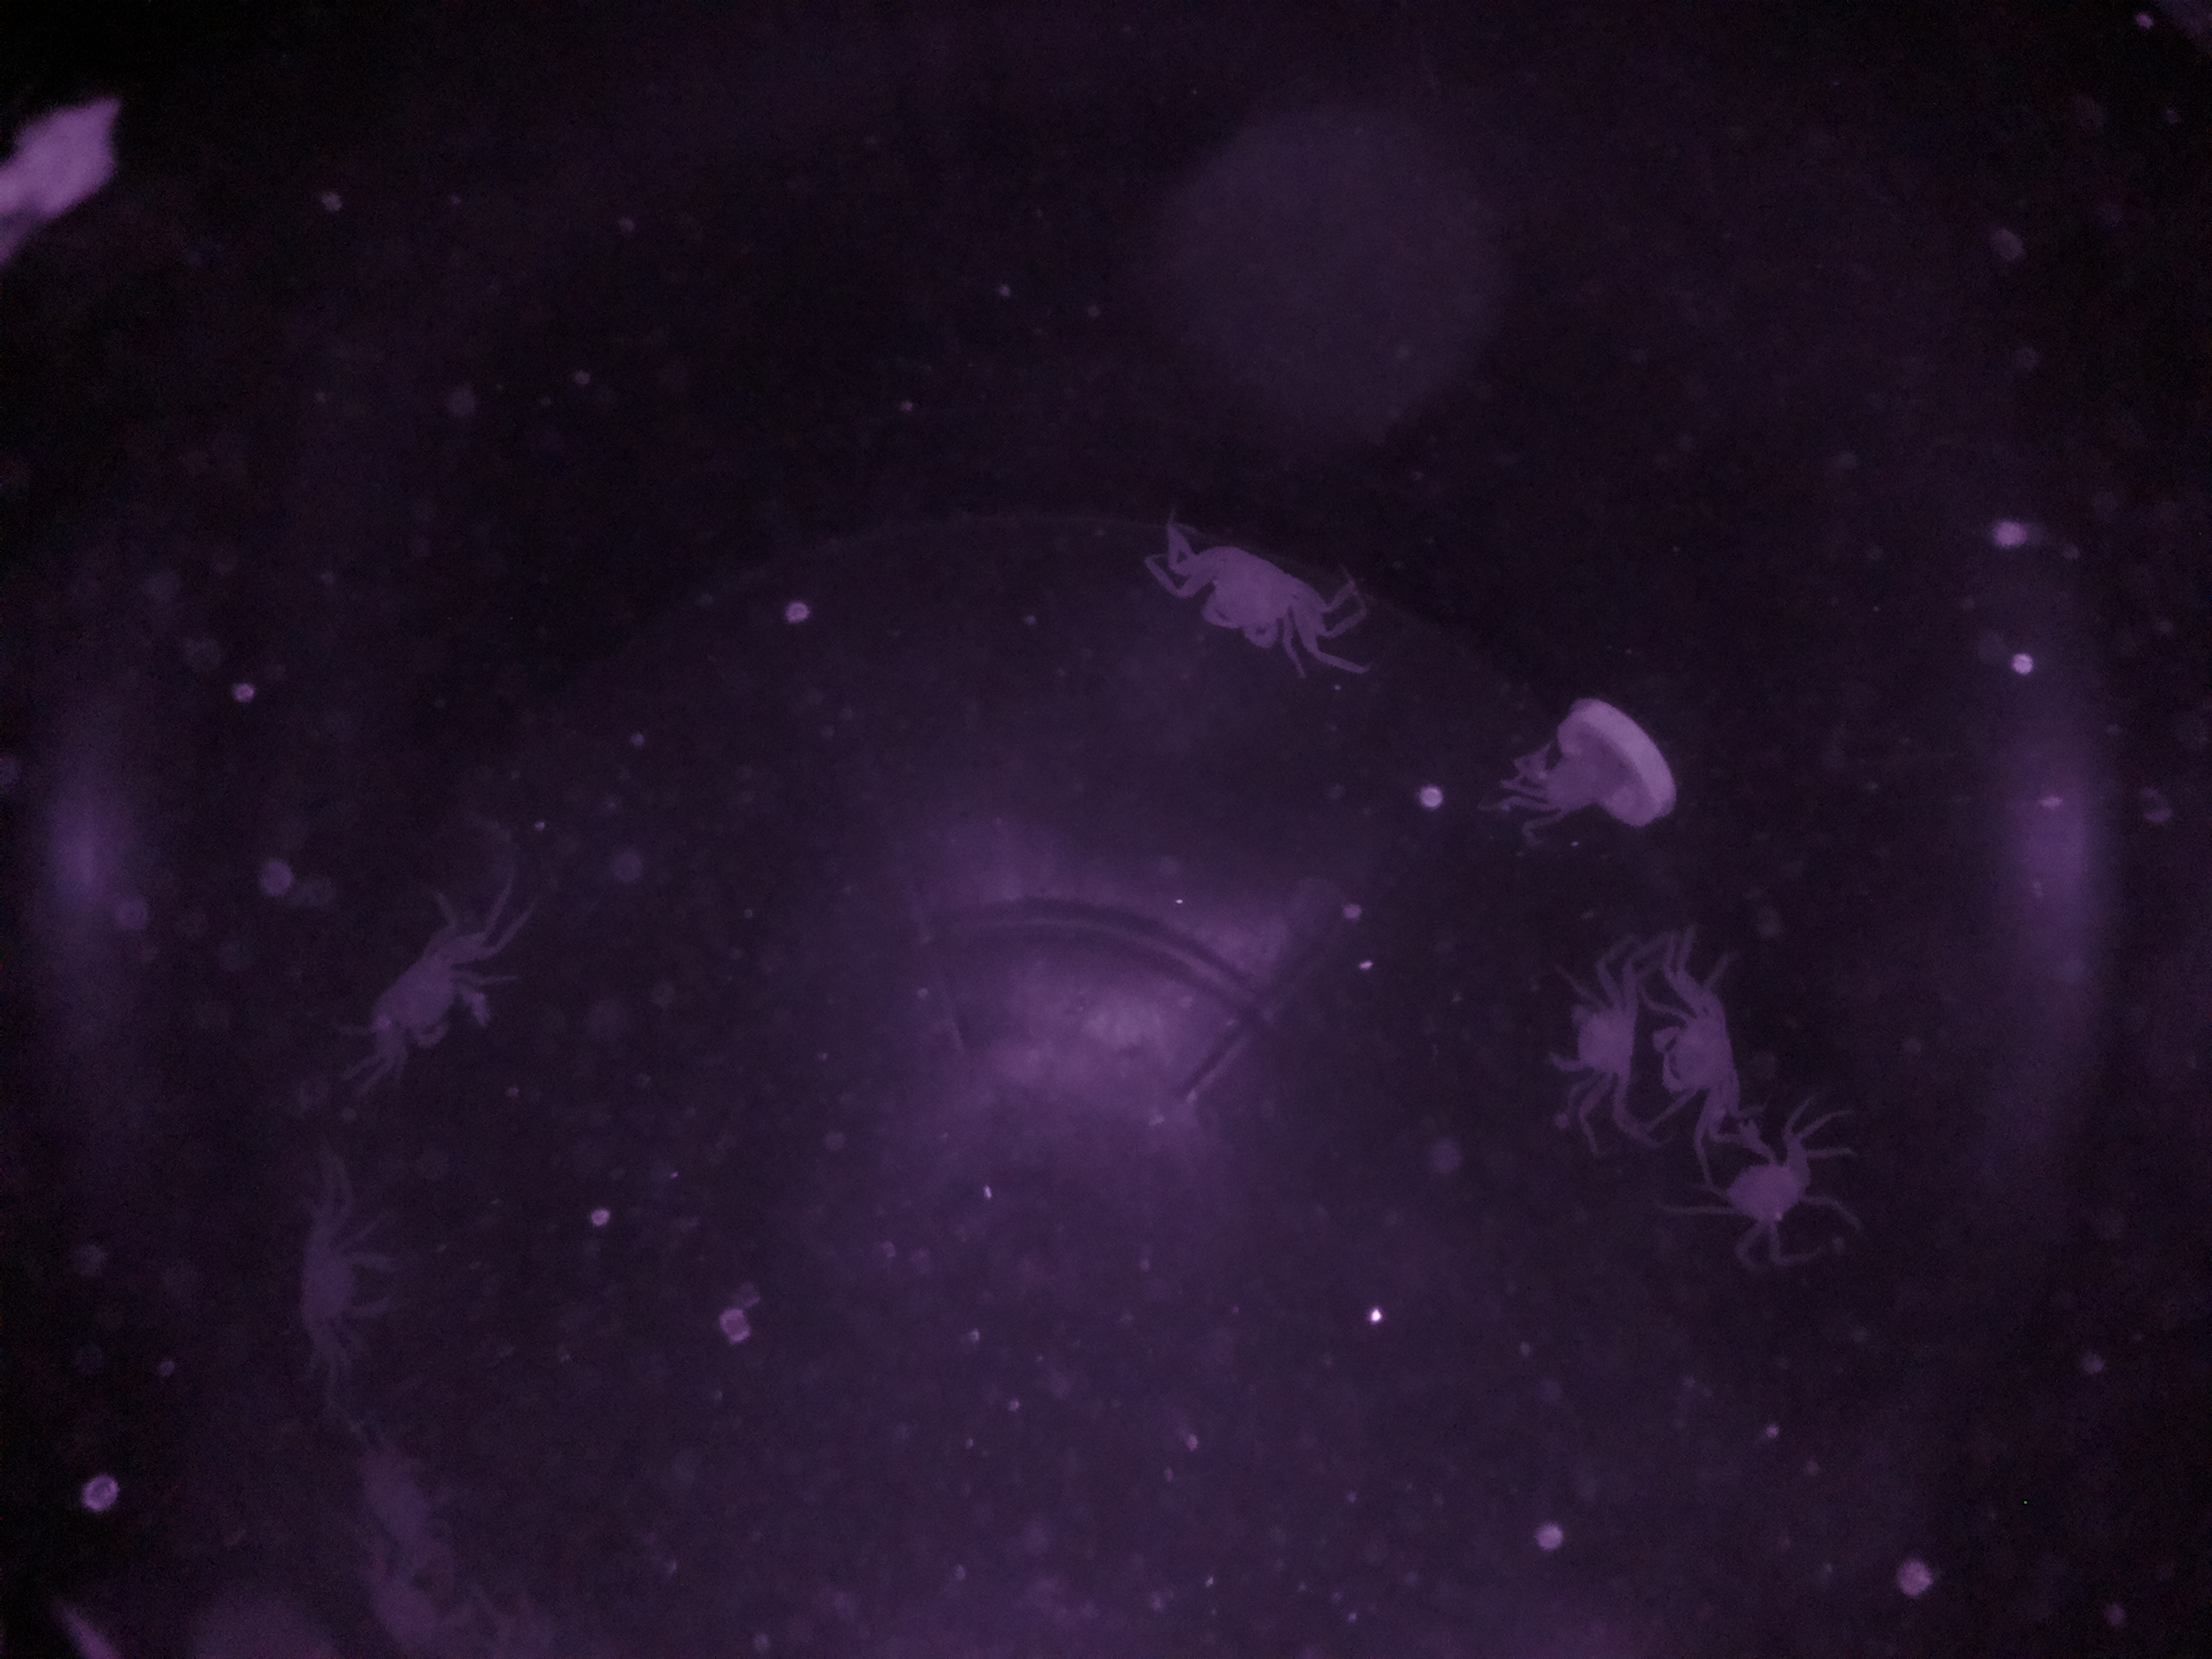Crab: (329, 910, 524, 1077), (1158, 511, 1353, 676), (1639, 915, 1768, 1145), (1533, 950, 1637, 1133)
